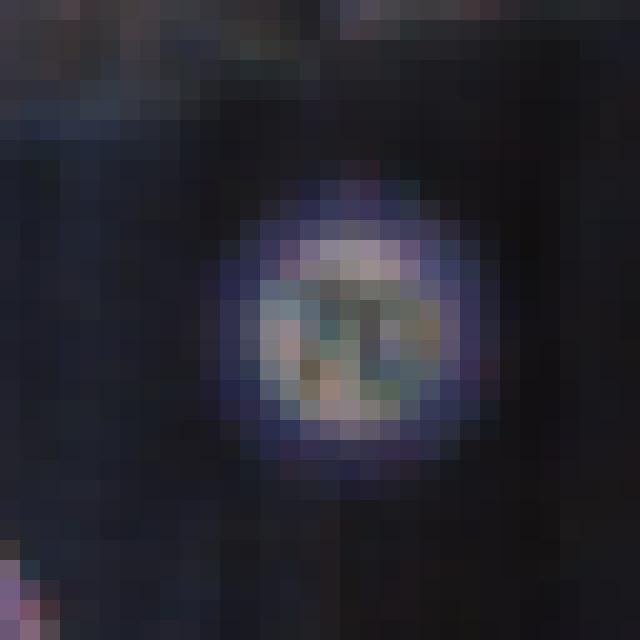SPEED LIMIT 70: (238, 213, 468, 455)
